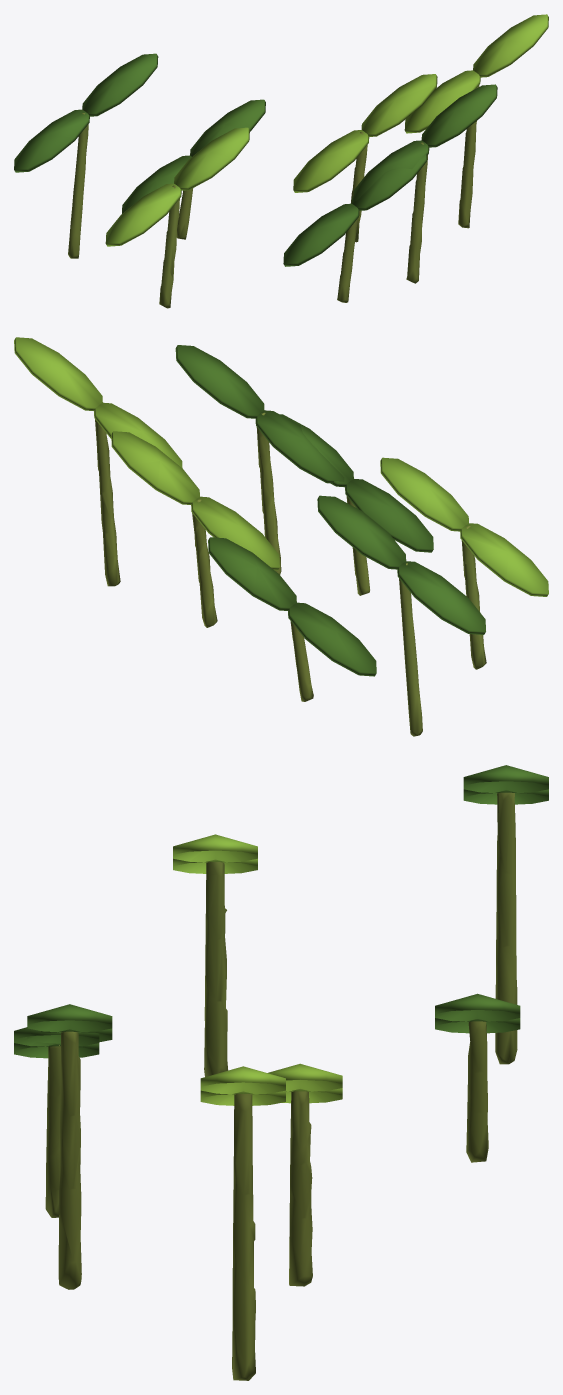
Rendered from mire_gc_sprouts.glb.
3 views of the same model, one above another, from view 1: azimuth 30°, elevation 25°; view 2: azimuth 150°, elevation 25°; view 3: azimuth 270°, elevation 25° (orthographic). The views are drawn at different scales.
Visible parts, largest first — view 1: mire_gc_sprouts; view 2: mire_gc_sprouts; view 3: mire_gc_sprouts.
Boxes of the visible parts, x1=… form: mire_gc_sprouts: x1=14, y1=14, x2=548, y2=308; mire_gc_sprouts: x1=14, y1=337, x2=548, y2=736; mire_gc_sprouts: x1=14, y1=765, x2=548, y2=1380.
Size of the model in its own units: 3.87 by 1.52 by 1.91.
